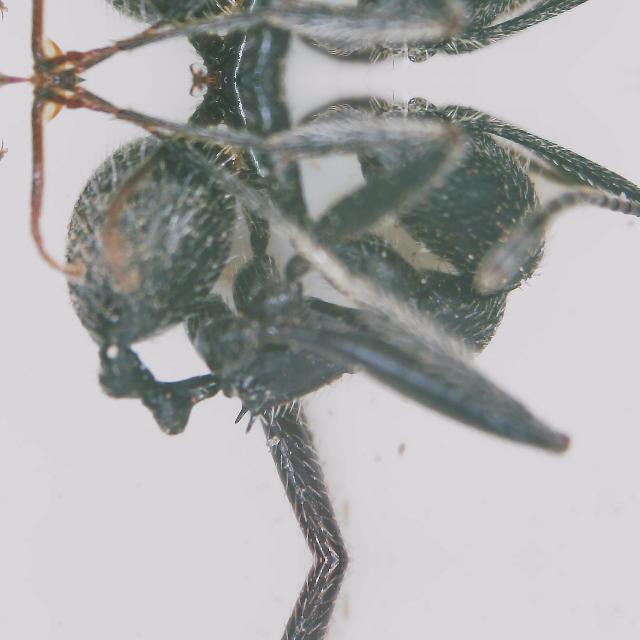Apheanogaster: (7, 84, 639, 502)
